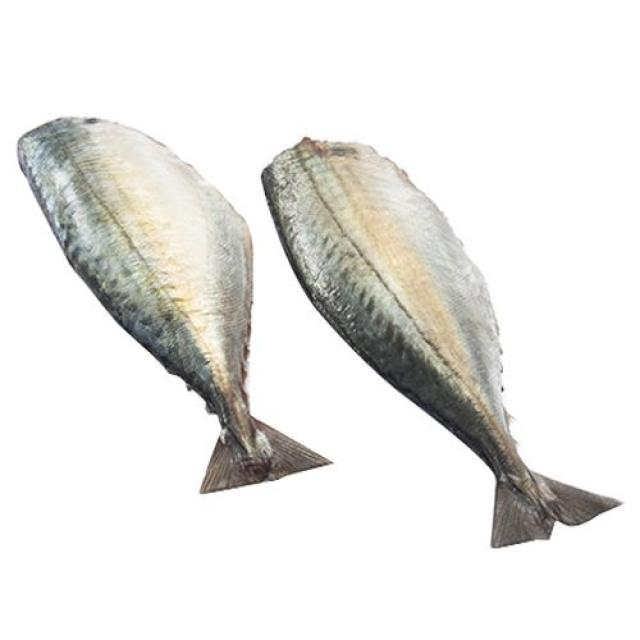Mackerel: (262, 138, 619, 547), (19, 118, 330, 492)
